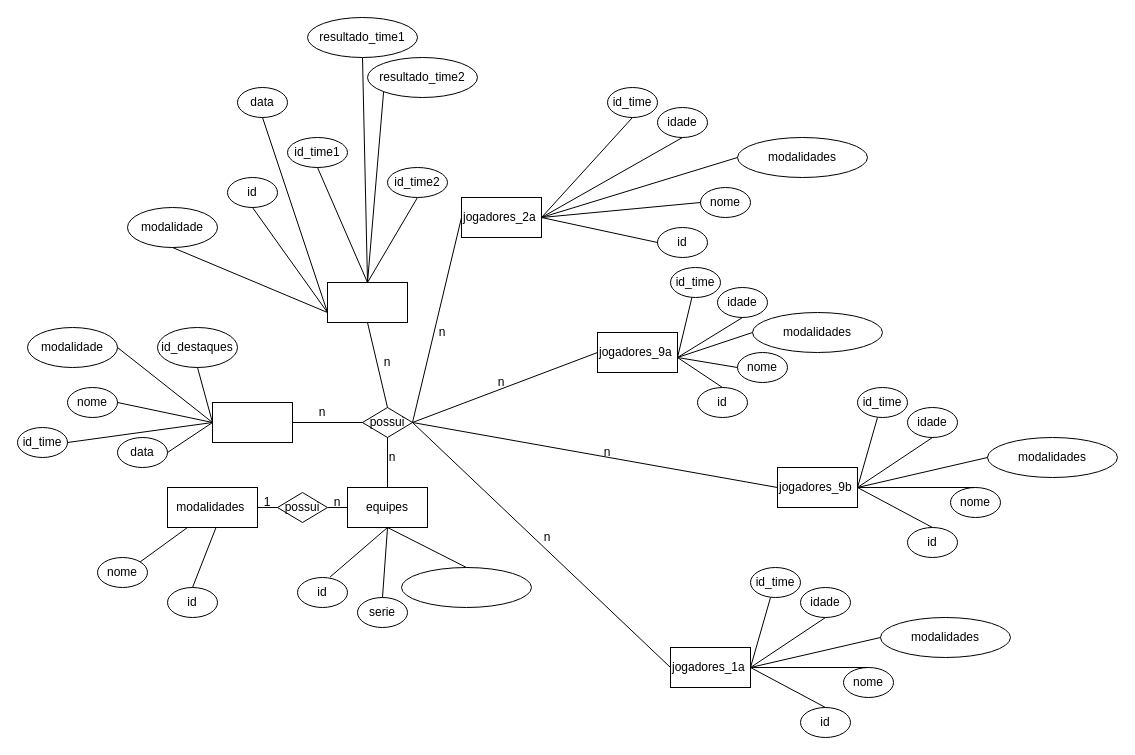
This 1135x755 diagram has some shape labels left out. Each missing label, with the box of its shape:
destaques: (212, 402, 292, 442)
jogos: (326, 282, 408, 322)
modalidades_jogadas: (400, 566, 532, 608)
